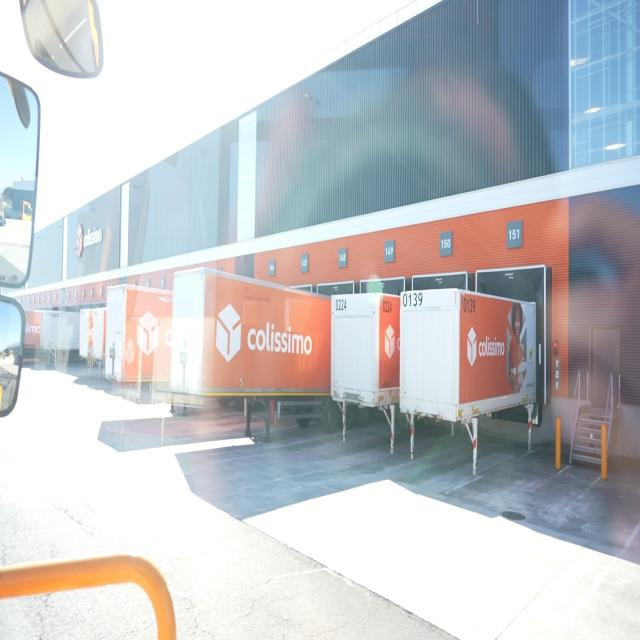Code: (401, 289, 424, 312), (460, 293, 478, 314), (333, 298, 349, 316), (380, 295, 393, 317)
